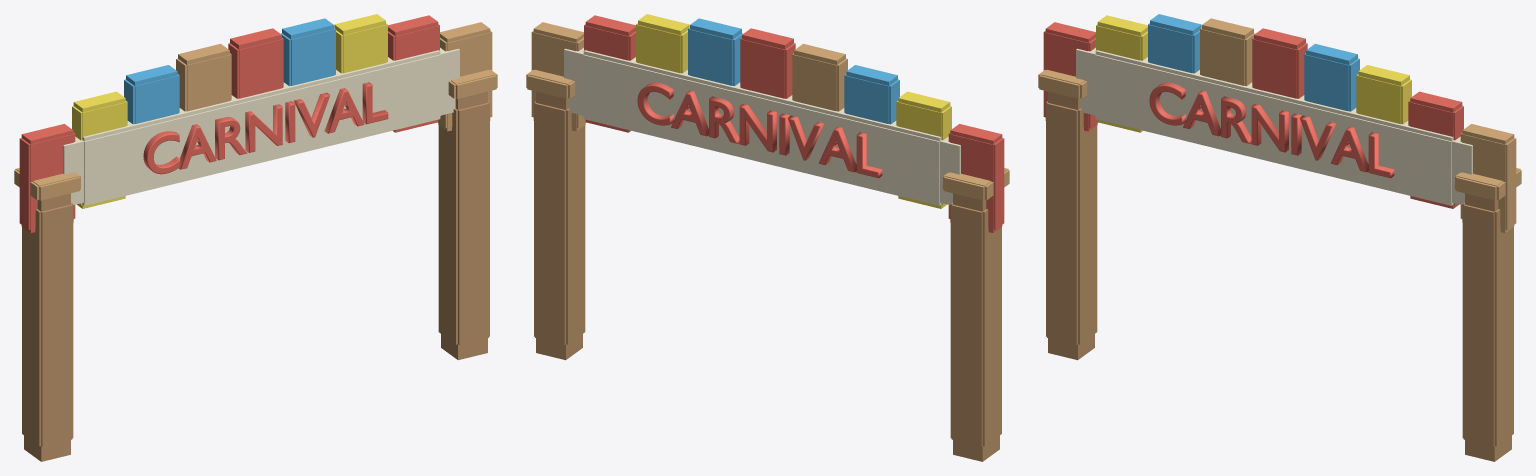
Rendered from prop_carnival_arch_6m.glb.
3 views of the same model, side by side, from view 1: azimuth 30°, elevation 25°; view 2: azimuth 150°, elevation 25°; view 3: azimuth 330°, elevation 25° (orthographic).
Visible parts, largest first — view 1: Mesh_Carnival_Arch, Mesh_Carnival_Text_Front; view 2: Mesh_Carnival_Arch, Mesh_Carnival_Text_Back; view 3: Mesh_Carnival_Arch, Mesh_Carnival_Text_Front.
Part boxes in pixels (x1,y1,x2,y2): Mesh_Carnival_Arch: [14, 14, 497, 461]; Mesh_Carnival_Text_Front: [143, 82, 388, 174]; Mesh_Carnival_Arch: [526, 14, 1009, 461]; Mesh_Carnival_Text_Back: [637, 82, 882, 178]; Mesh_Carnival_Arch: [1038, 14, 1521, 461]; Mesh_Carnival_Text_Front: [1149, 82, 1394, 178].
Size of what is drawn, in the model's own units: 6.56 by 4.93 by 0.62.
